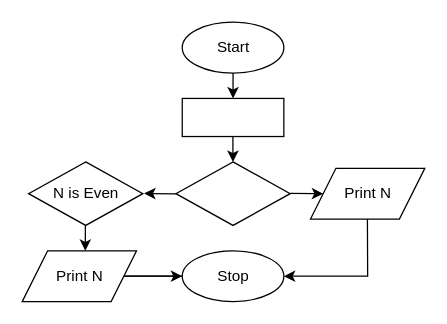
The diagram is 447 pixels wide and 324 high, and some of its shapes have lost their labels. Here are the shapes that lost their labels. From the top down, the centre of each, then its label:
At point 232,117: "N = 0".
At point 232,193: "N is Odd".
